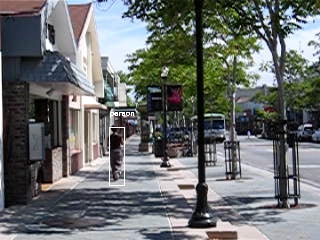person: (106, 126, 125, 183), (105, 126, 124, 183), (107, 126, 126, 183), (106, 125, 125, 182), (106, 127, 125, 184)
target_negative: (159, 53, 238, 169), (171, 13, 226, 100), (274, 178, 308, 228), (180, 28, 186, 211), (259, 137, 272, 198), (271, 224, 291, 225)
